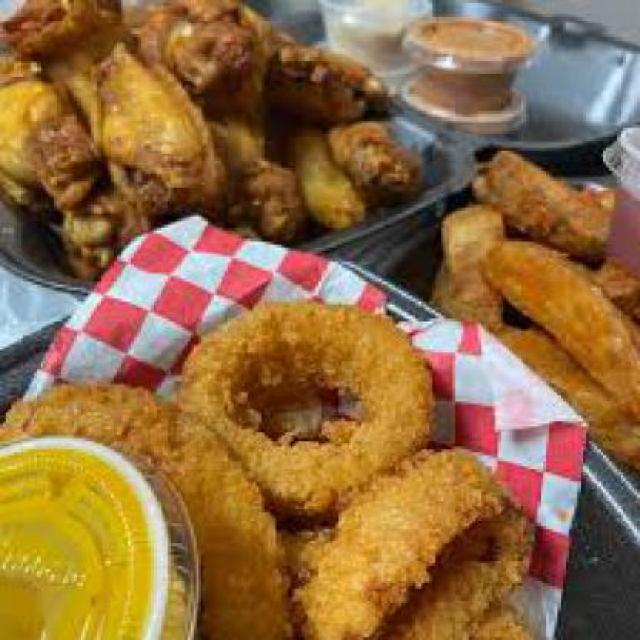chicken wings: (3, 2, 626, 373)
onion rings: (6, 290, 554, 638)
